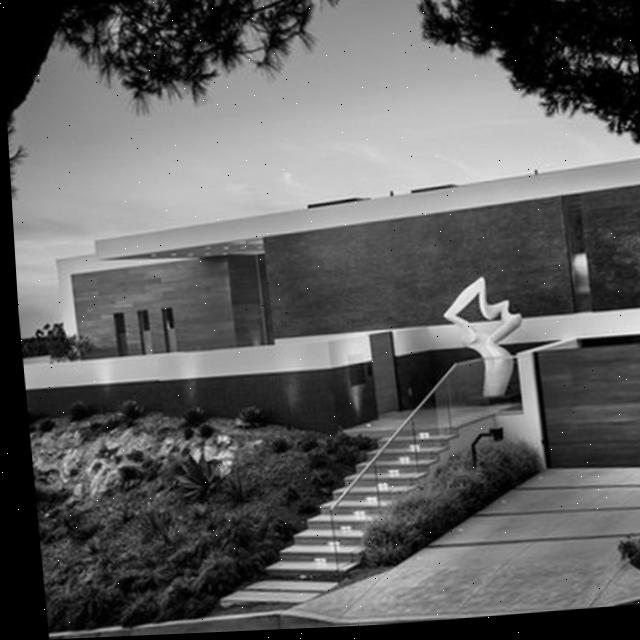building: (14, 165, 640, 464)
